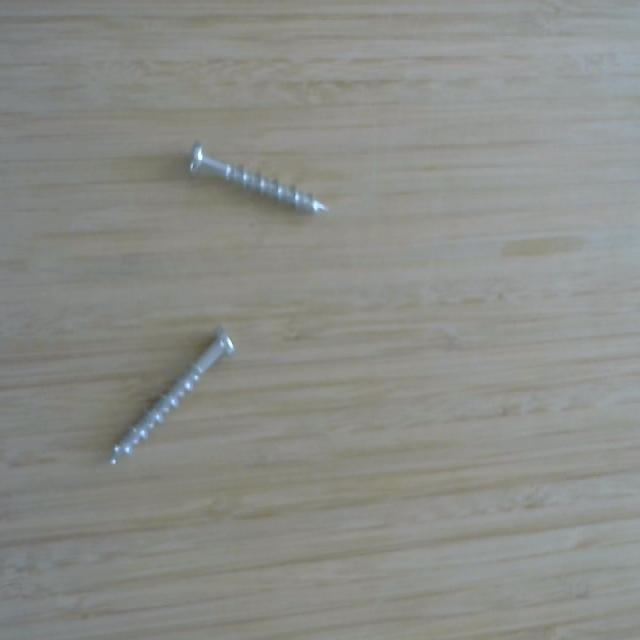Medium screw: (100, 316, 245, 477), (181, 134, 338, 226)
